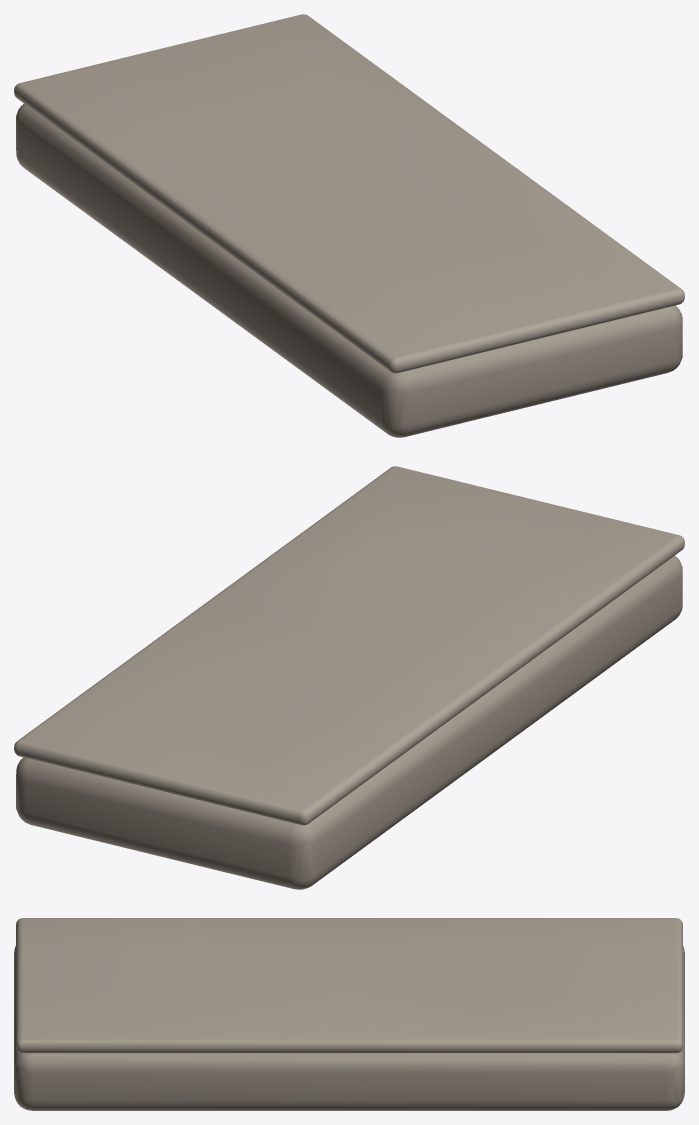
The model's file is mattress-single.glb.
3 renders of one model, top to bottom at view 1: azimuth 30°, elevation 25°; view 2: azimuth 150°, elevation 25°; view 3: azimuth 270°, elevation 25°, orthographic. The views are drawn at different scales.
Parts seen in each view (by area): view 1: EQ_Mobile_mattress-single_Upholstery; view 2: EQ_Mobile_mattress-single_Upholstery; view 3: EQ_Mobile_mattress-single_Upholstery.
Part boxes in pixels (bbox=[...]): EQ_Mobile_mattress-single_Upholstery: bbox=[14, 14, 684, 437]; EQ_Mobile_mattress-single_Upholstery: bbox=[14, 466, 684, 889]; EQ_Mobile_mattress-single_Upholstery: bbox=[14, 918, 684, 1110].
Size of the model in its own units: 0.9 by 0.2488 by 2.
